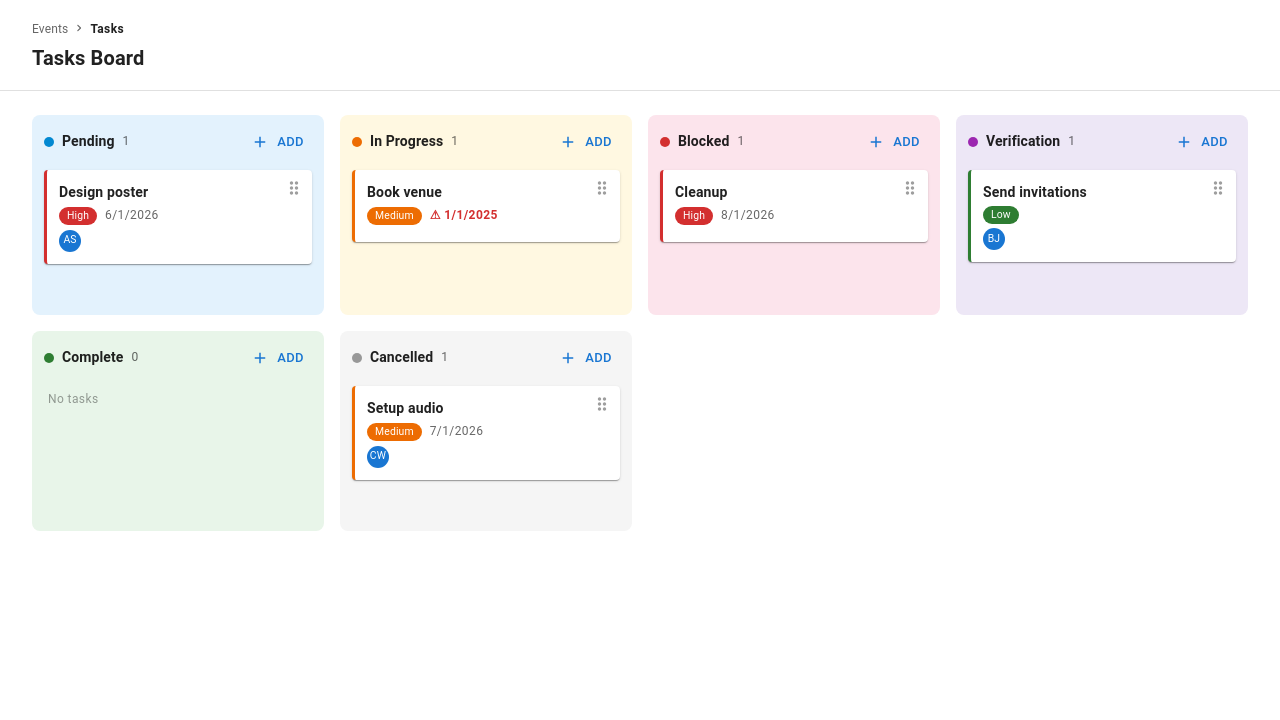
Scenario: TasksKanbanPage - Extended Coverage › closes add task dialog on cancel
Click the button "Add" in the row of "Pending": (279, 142) x1=245 y1=127 x2=312 y2=158
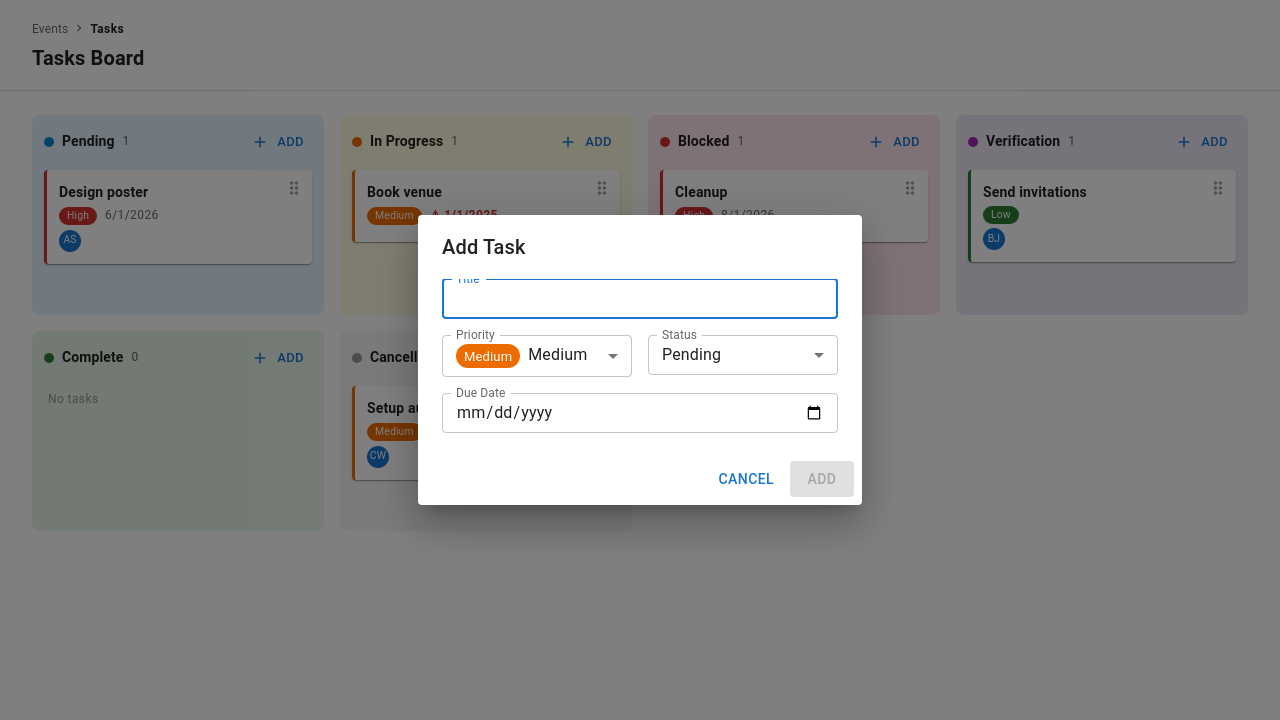
Expected: the dialog is shown, x1=418 y1=215 x2=862 y2=505
Click the button "Cancel": (746, 479) x1=710 y1=461 x2=782 y2=497
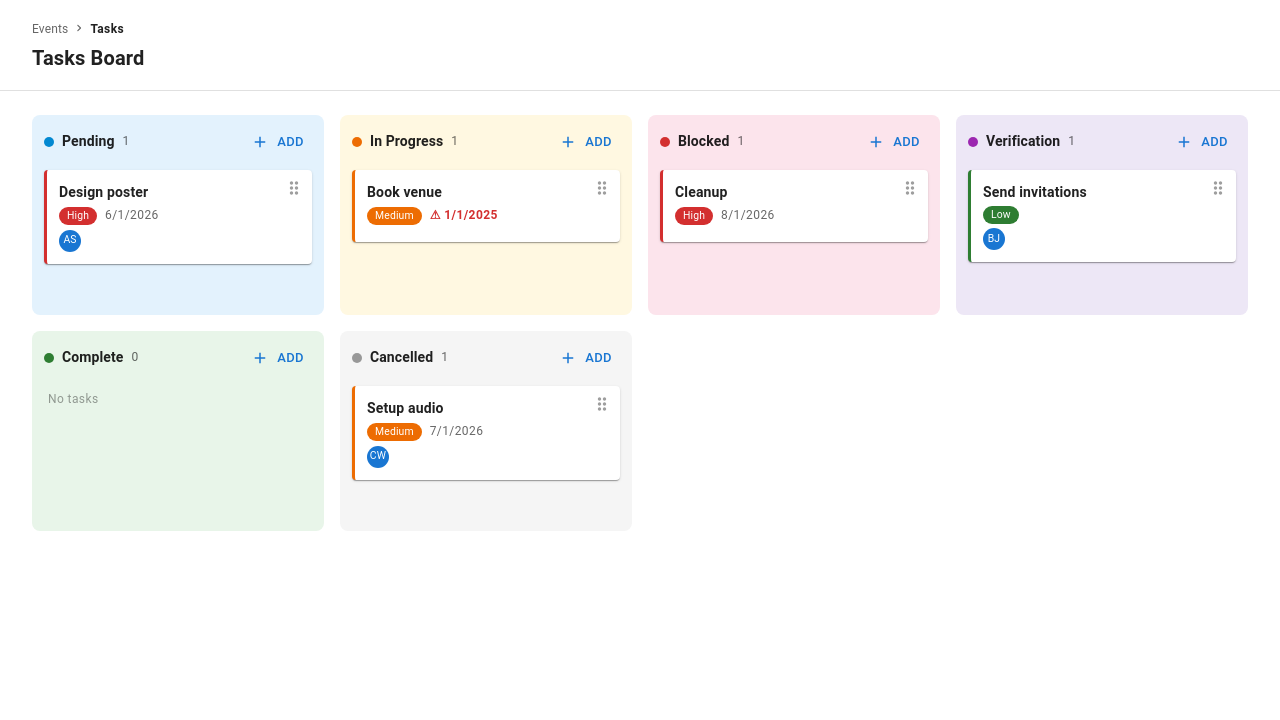
Expected: the dialog is gone
